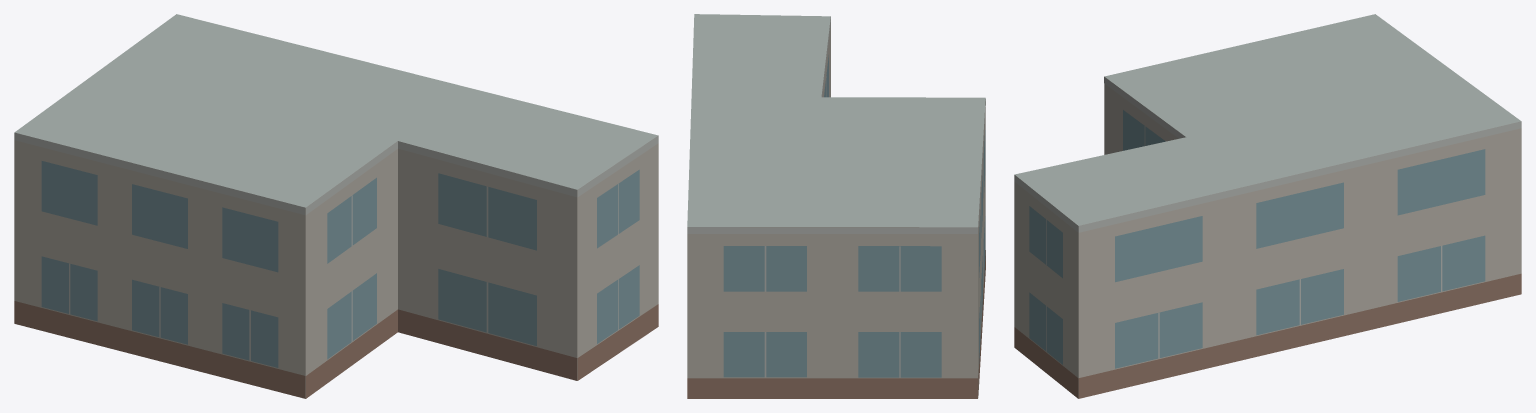
Rendered from survey-upis-32763059.glb.
The picture shows the model from 3 angles, left to right: view 1: azimuth 30°, elevation 25°; view 2: azimuth 150°, elevation 25°; view 3: azimuth 270°, elevation 25°; orthographic projection. The views are drawn at different scales.
Parts seen in each view (by area): view 1: survey-upis-32763059.tmp; view 2: survey-upis-32763059.tmp; view 3: survey-upis-32763059.tmp.
Part boxes in pixels (x1,y1,x2,y2): survey-upis-32763059.tmp: [14, 14, 658, 398]; survey-upis-32763059.tmp: [687, 14, 985, 398]; survey-upis-32763059.tmp: [1014, 14, 1521, 398].
Size of the model in its own units: 16.04 by 6.1 by 16.22.
